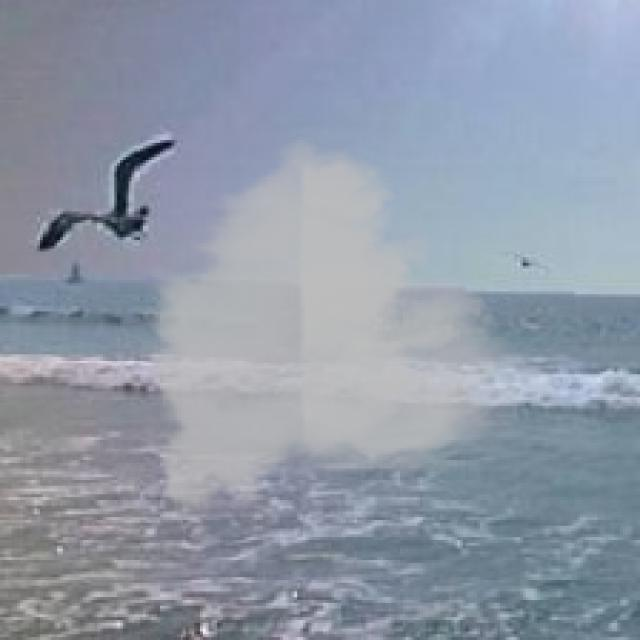smoke: (134, 126, 517, 531)
